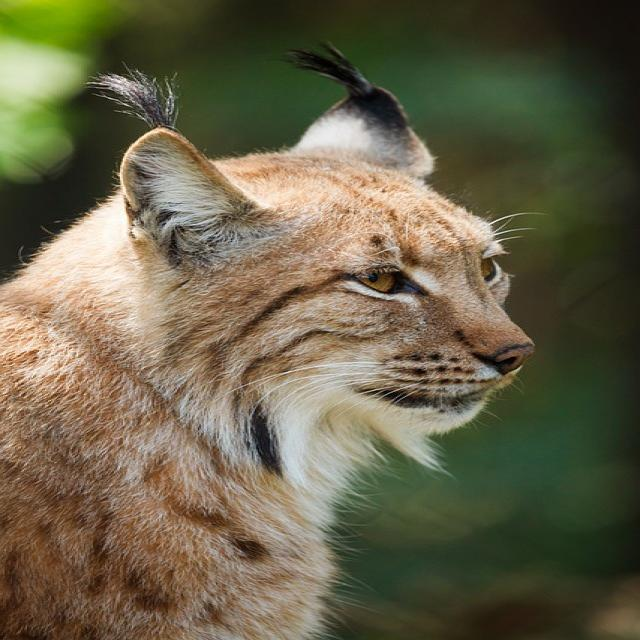Carnivorous: (0, 44, 535, 640)
